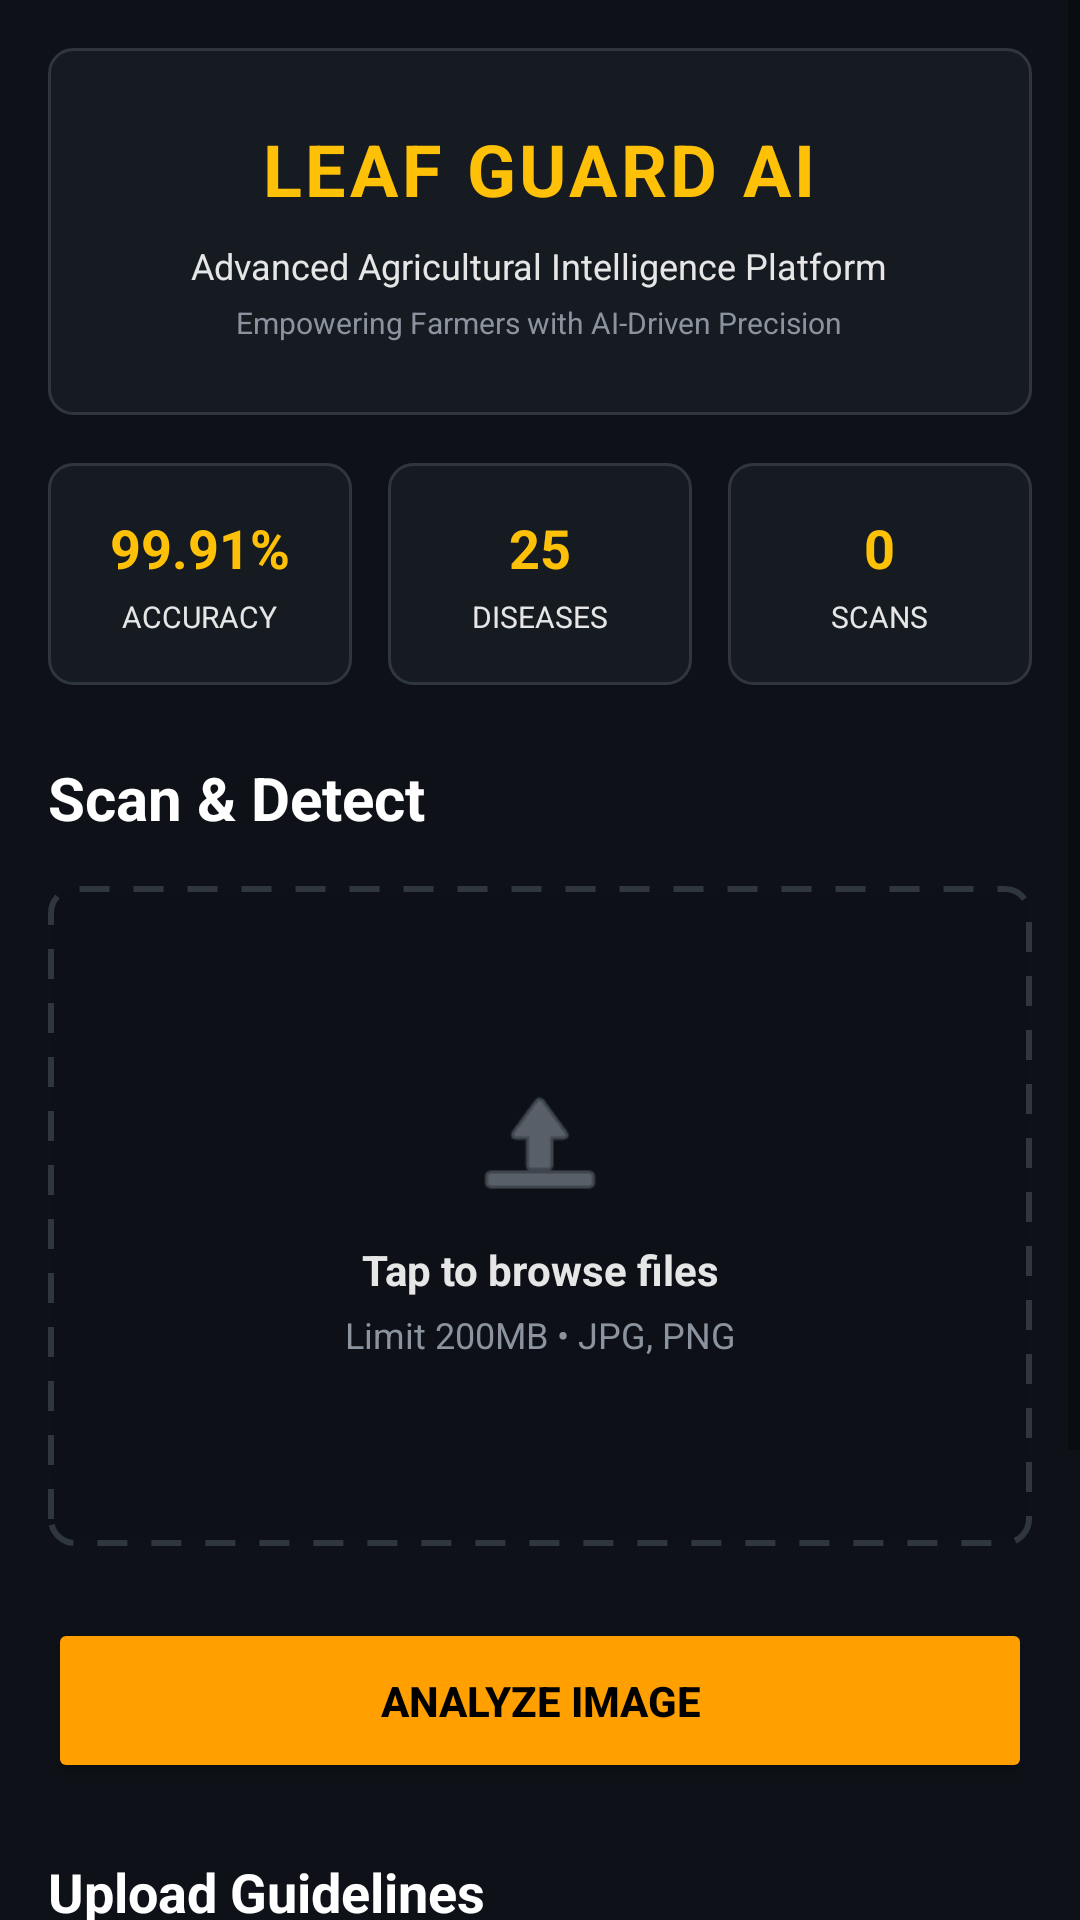

Icon click points for this 1080x1920 phone screenshot, format (x,y):
upload: (540,1143)
